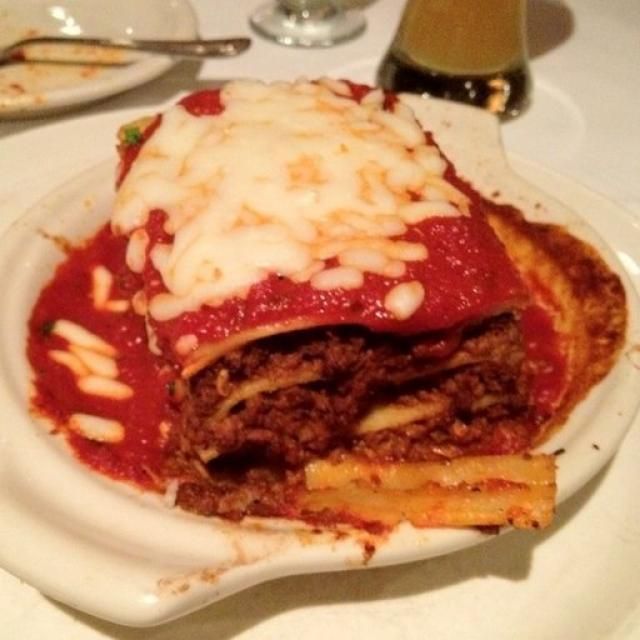Lasagna: (56, 64, 574, 544)
